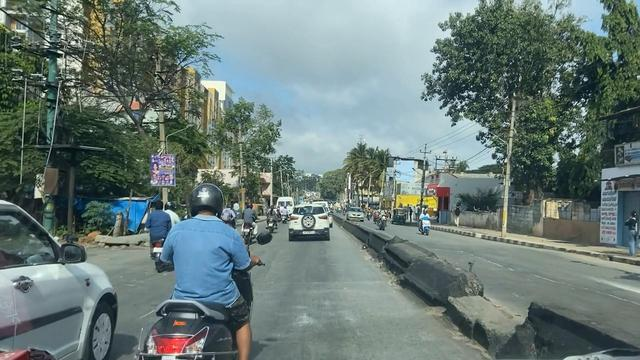LMV: (159, 187, 248, 360), (286, 205, 331, 238), (244, 201, 258, 241)
UnsurfacedRoad: (283, 277, 378, 329)
